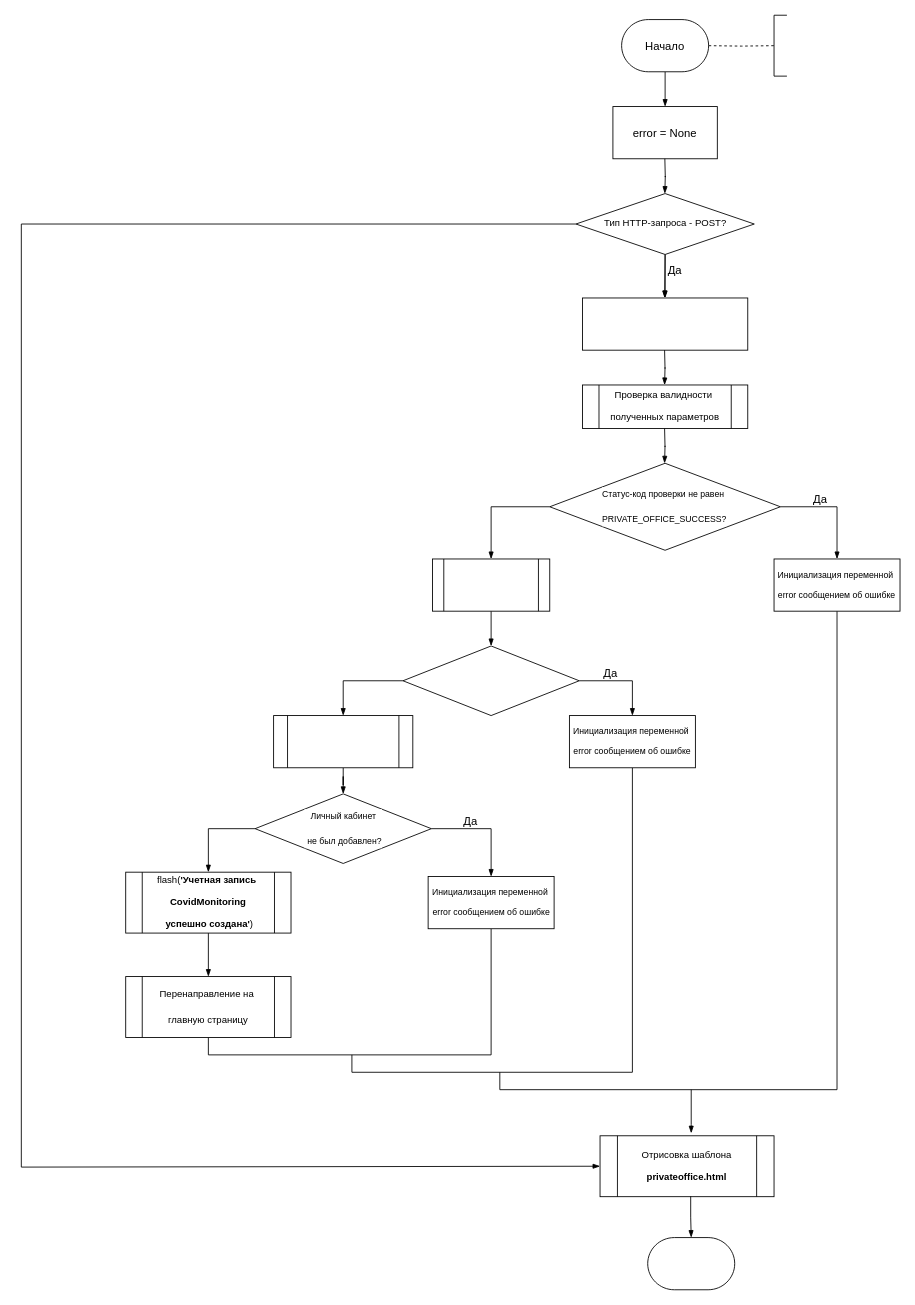
Image size: 915x1305. Some labels were removed from this diagram. Here are the shapes that lost their labels. From the top down, the box of each, then its label:
(773, 14, 787, 76): email-адрес, пароль
(582, 297, 748, 350): Получение параметров с формы
(432, 558, 550, 611): Добавление нового пользователя в БД
(402, 645, 579, 716): Пользователь не был добавлен?
(273, 715, 413, 768): Добавление нового личного кабинета в БД
(647, 1237, 735, 1290): Конец
